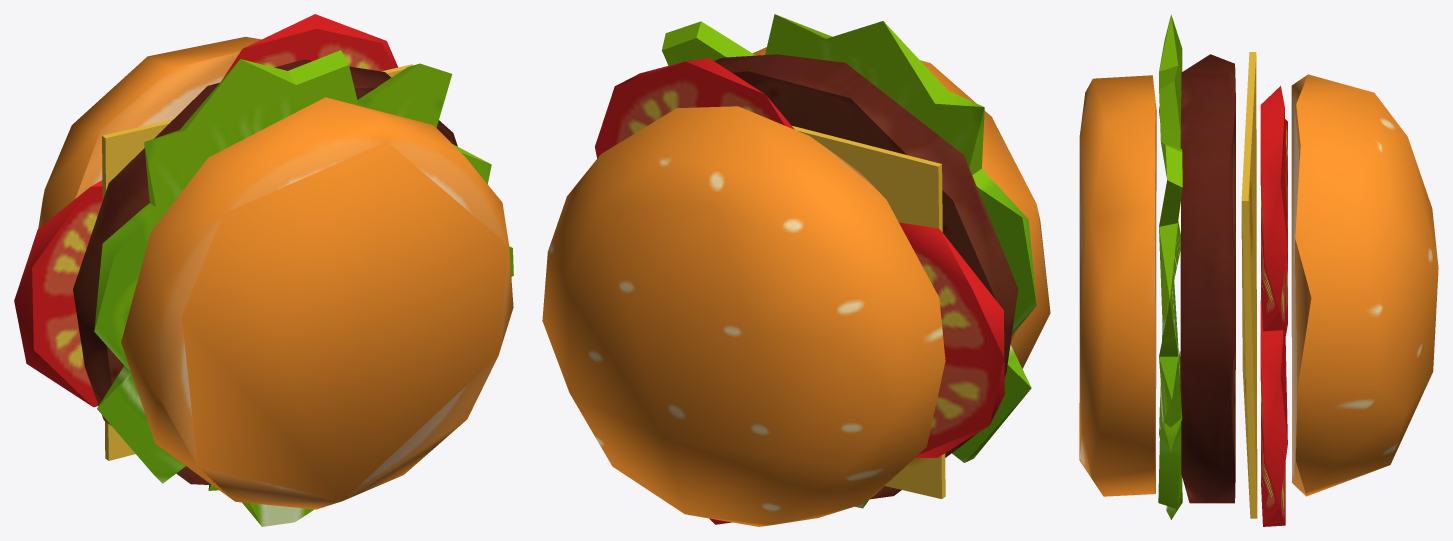
The model's file is Hamburger.fbx.
The picture shows the model from 3 angles, left to right: view 1: azimuth 30°, elevation 25°; view 2: azimuth 150°, elevation 25°; view 3: azimuth 270°, elevation 25°; orthographic projection. The views are drawn at different scales.
Parts seen in each view (by area): view 1: burger_3_lod2; view 2: burger_3_lod2; view 3: burger_3_lod2.
Part boxes in pixels (x1,y1,x2,y2): burger_3_lod2: (14,14,513,526); burger_3_lod2: (542,14,1050,526); burger_3_lod2: (1079,14,1438,526).
Size of the model in its own units: 63.63 by 64.91 by 44.85.
Materials: 1 (1 with a texture image).
